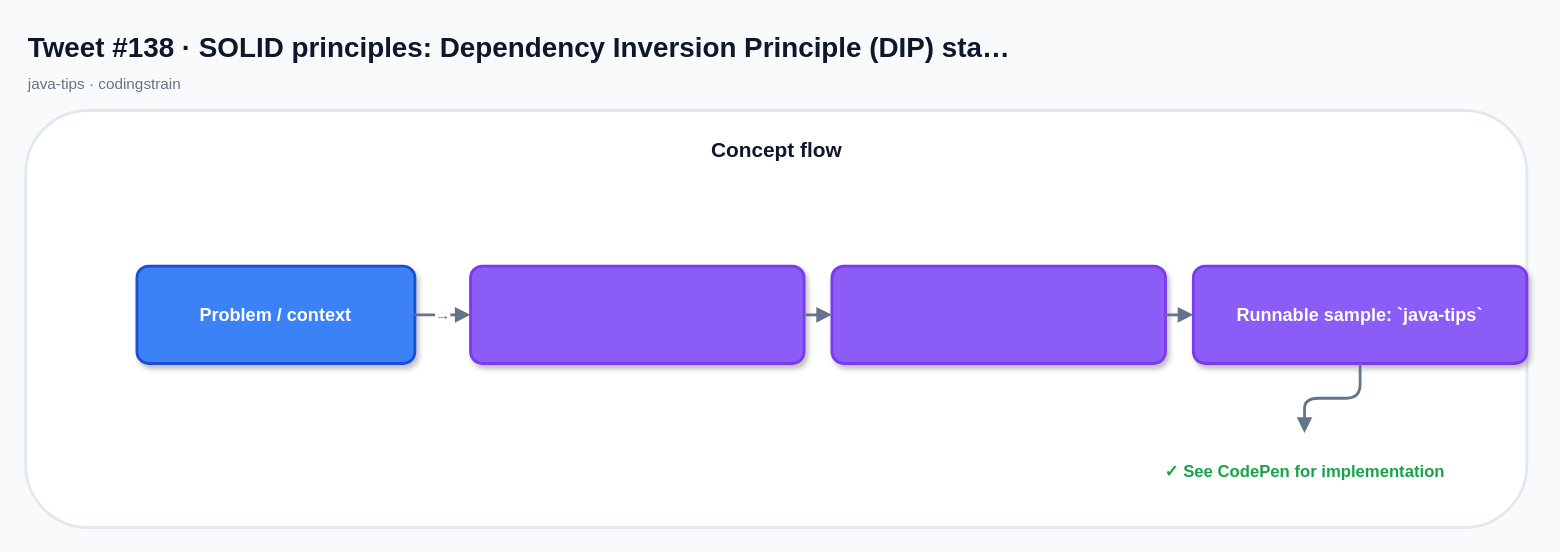
The diagram is 1560 pixels wide and 552 high, and some of its shapes have lost their labels. The shapes that lost their labels are listed below. From the top down, each one's centre as x and y in pixels, then its label:
At point 638,316: "💡SOLID principles: Dependency Inversion Principle (DIP) states that hi".
At point 999,316: "#SOLID #SoftwareDesign".
